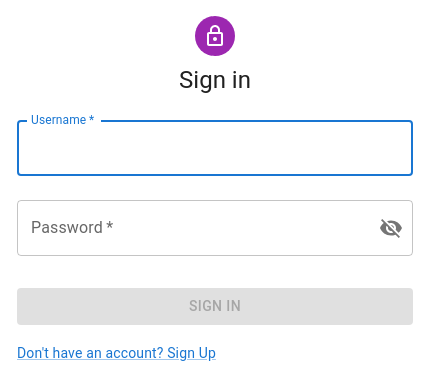
Test: SignIn › disables the sign-in button when username or password is empty
Check: the button with test id "test-sign-in-btn" is disabled, box [17,288,413,324]
Type "testuser" into the field labelled "Username *" at (215, 148), box [17,120,413,176]
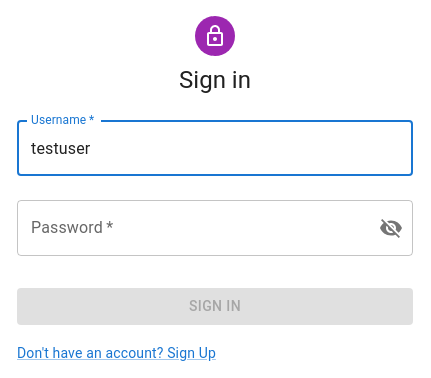
Check: the button with test id "test-sign-in-btn" is disabled, box [17,288,413,324]
Type "password" into the password field labelled "Password *" at (190, 228), box [17,200,363,256]
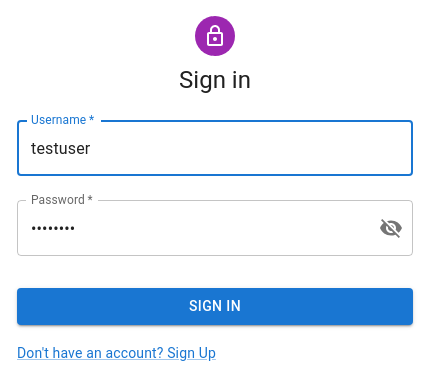
Check: the button with test id "test-sign-in-btn" is enabled, box [17,288,413,324]
